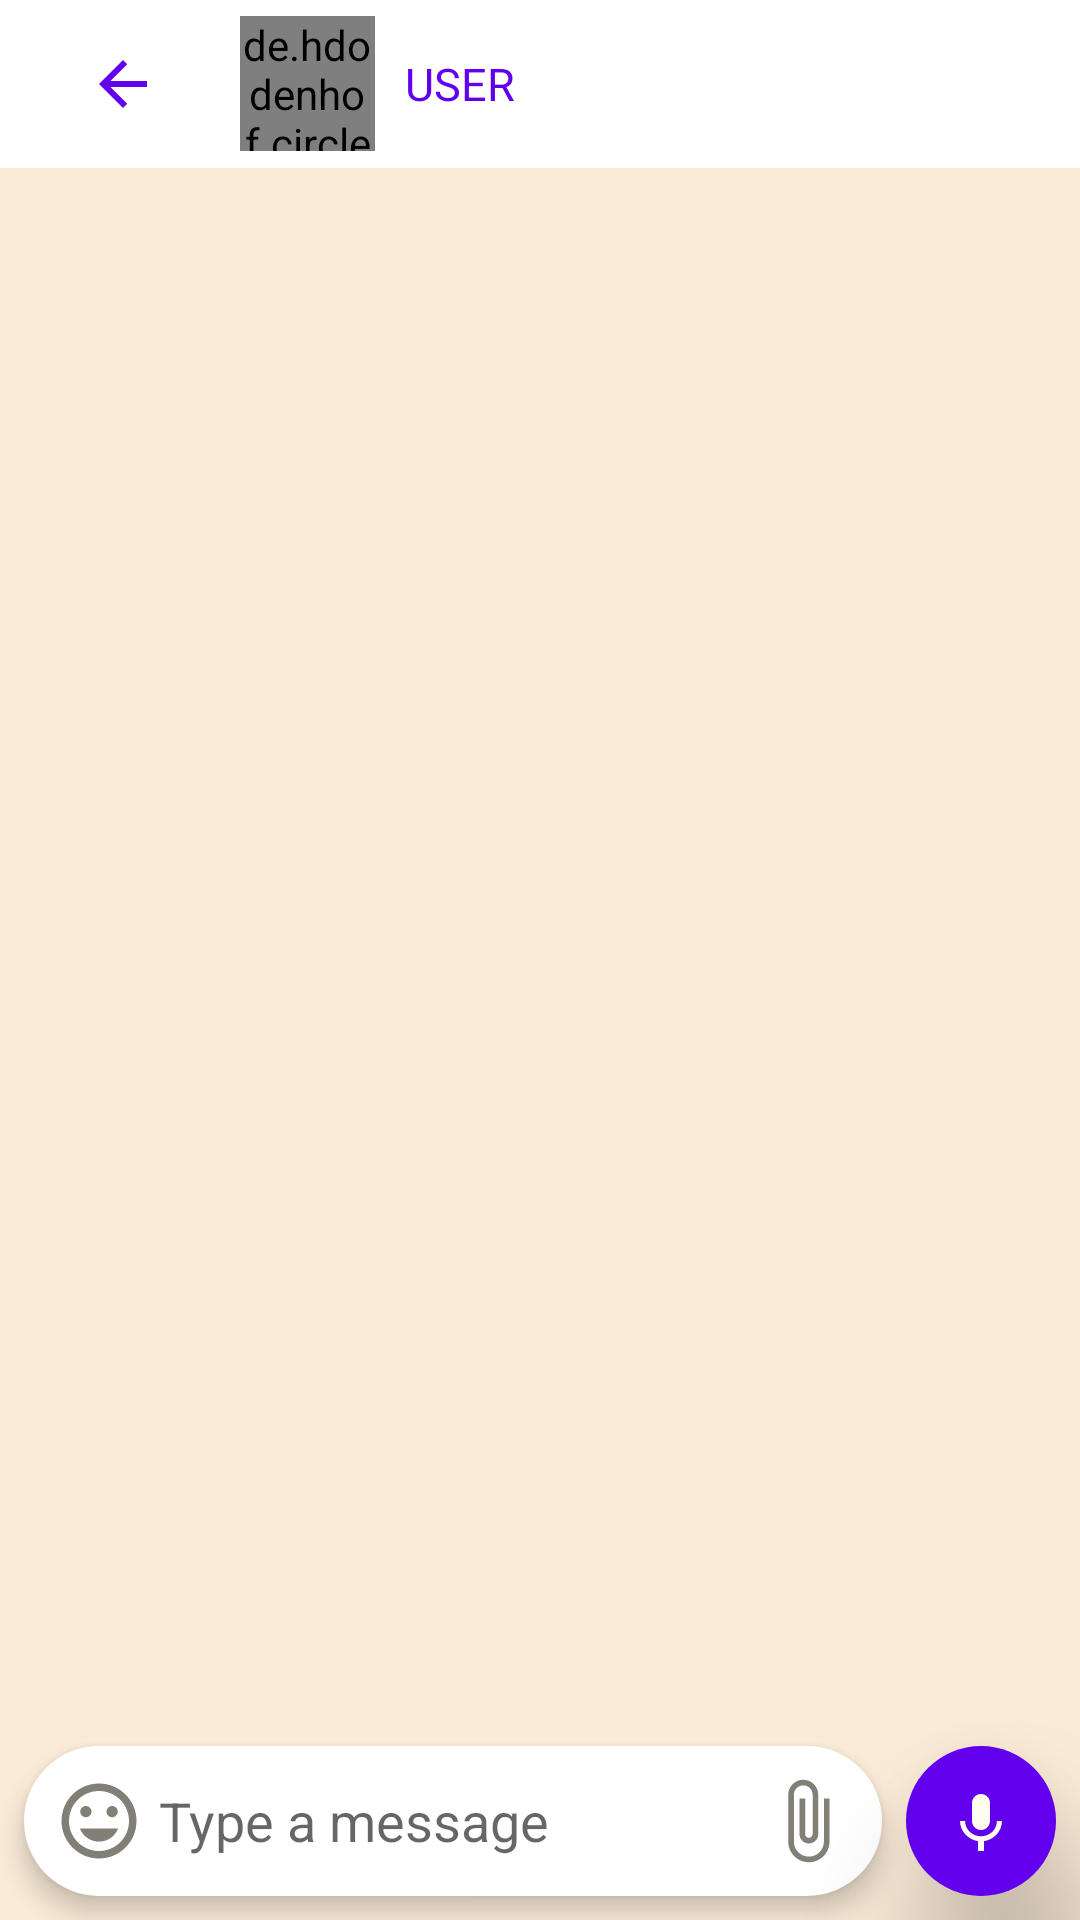

Icons on this 1080×1920 Android screen, each with the point to tap as point (x, y):
attach: point (809, 1821)
go back: point (123, 84)
insert emoticon: point (99, 1821)
voice: point (981, 1821)
